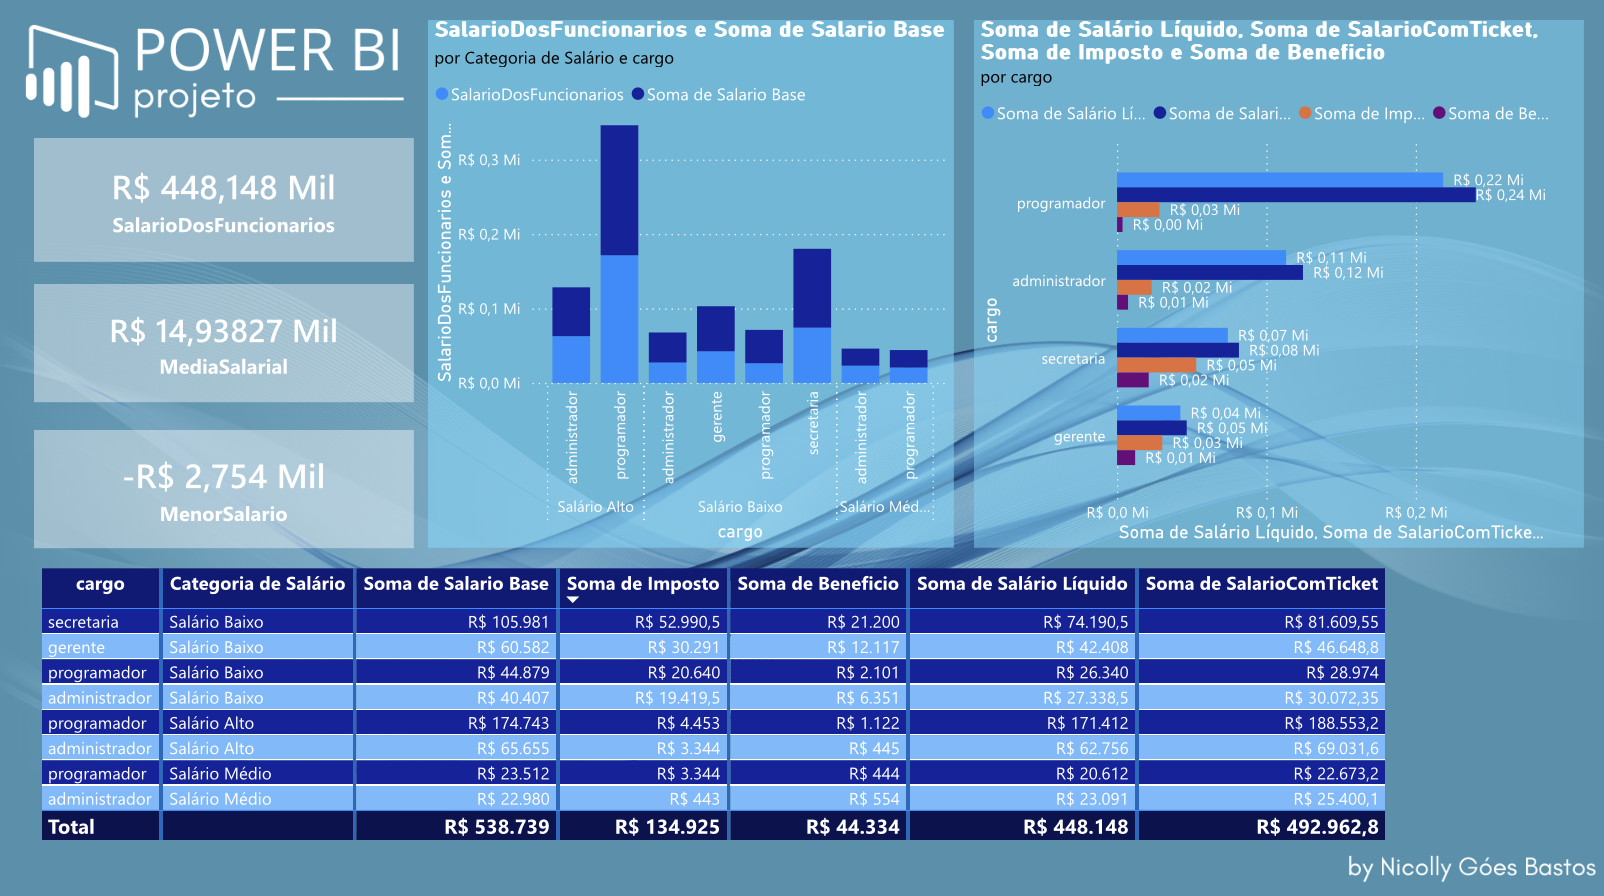

What the dashboard file says about the page in this screenshot:
{"tool":"powerbi","page":{"name":"Página 1","canvas":[1280,720],"ordinal":0},"visuals":[{"type":"image","box":[0,0,1280,719.9],"z":0},{"type":"cardVisual","fields":{"Data":["Medidas.SalarioDosFuncionarios"]},"box":[31.6,115.5,300.6,98.1],"z":1000},{"type":"cardVisual","fields":{"Data":["Medidas.MediaSalarial"]},"box":[31.6,231,300.6,93.3],"z":2000},{"type":"cardVisual","fields":{"Data":["Medidas.MenorSalario"]},"box":[31.6,346.5,300.6,93.3],"z":2001},{"type":"columnChart","fields":{"Y":["Medidas.SalarioDosFuncionarios","Sum(FUNCIONARIO.Salario Base)"],"Category":["FUNCIONARIO.Categoria de Salário","FUNCIONARIO.cargo"]},"box":[343.3,22.2,416.1,417.7],"z":2002},{"type":"tableEx","fields":{"Values":["FUNCIONARIO.cargo","FUNCIONARIO.Categoria de Salário","Sum(FUNCIONARIO.Salario Base)","Sum(FUNCIONARIO.Imposto)","Sum(FUNCIONARIO.Beneficio)","Sum(FUNCIONARIO.Salário Líquido)","Sum(FUNCIONARIO.SalarioComTicket)"]},"box":[31.6,450.9,1087,254.7],"z":2003},{"type":"clusteredBarChart","fields":{"Category":["FUNCIONARIO.cargo"],"Y":["Sum(FUNCIONARIO.Salário Líquido)","Sum(FUNCIONARIO.SalarioComTicket)","Sum(FUNCIONARIO.Imposto)","Sum(FUNCIONARIO.Beneficio)"]},"box":[775.3,22.2,482.6,417.7],"z":2004}]}

Visuals, with their boxes in screenshot pixels (x1, y1, x2, y2), scaled from the page's 1280x720 canvas onto the 1604x896 screenshot:
image: rect(0, 0, 1603, 895)
cardVisual - Medidas.SalarioDosFuncionarios: rect(40, 144, 416, 266)
cardVisual - Medidas.MediaSalarial: rect(40, 287, 416, 404)
cardVisual - Medidas.MenorSalario: rect(40, 431, 416, 547)
columnChart - Medidas.SalarioDosFuncionarios x Sum(FUNCIONARIO.Salario Base): rect(430, 28, 952, 547)
tableEx - FUNCIONARIO.cargo x FUNCIONARIO.Categoria de Salário: rect(40, 561, 1402, 878)
clusteredBarChart - FUNCIONARIO.cargo x Sum(FUNCIONARIO.Salário Líquido): rect(972, 28, 1576, 547)
